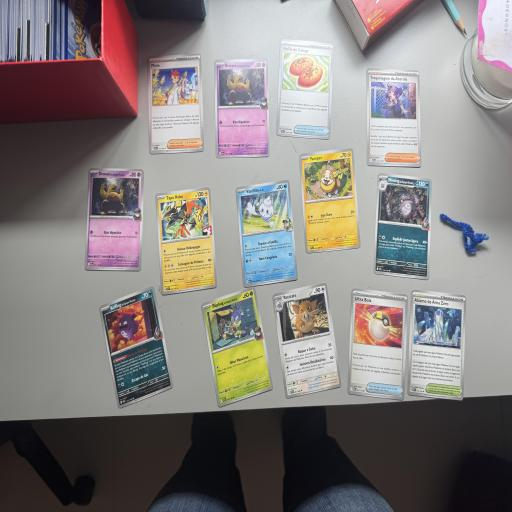card: (97, 285, 177, 409), (200, 285, 276, 408), (272, 282, 342, 399), (347, 288, 408, 401), (236, 180, 299, 288), (155, 187, 218, 295), (407, 289, 467, 401), (373, 172, 434, 280), (299, 148, 361, 253), (85, 168, 144, 271), (276, 39, 334, 140), (147, 53, 204, 154), (214, 59, 270, 158), (367, 68, 421, 167)
